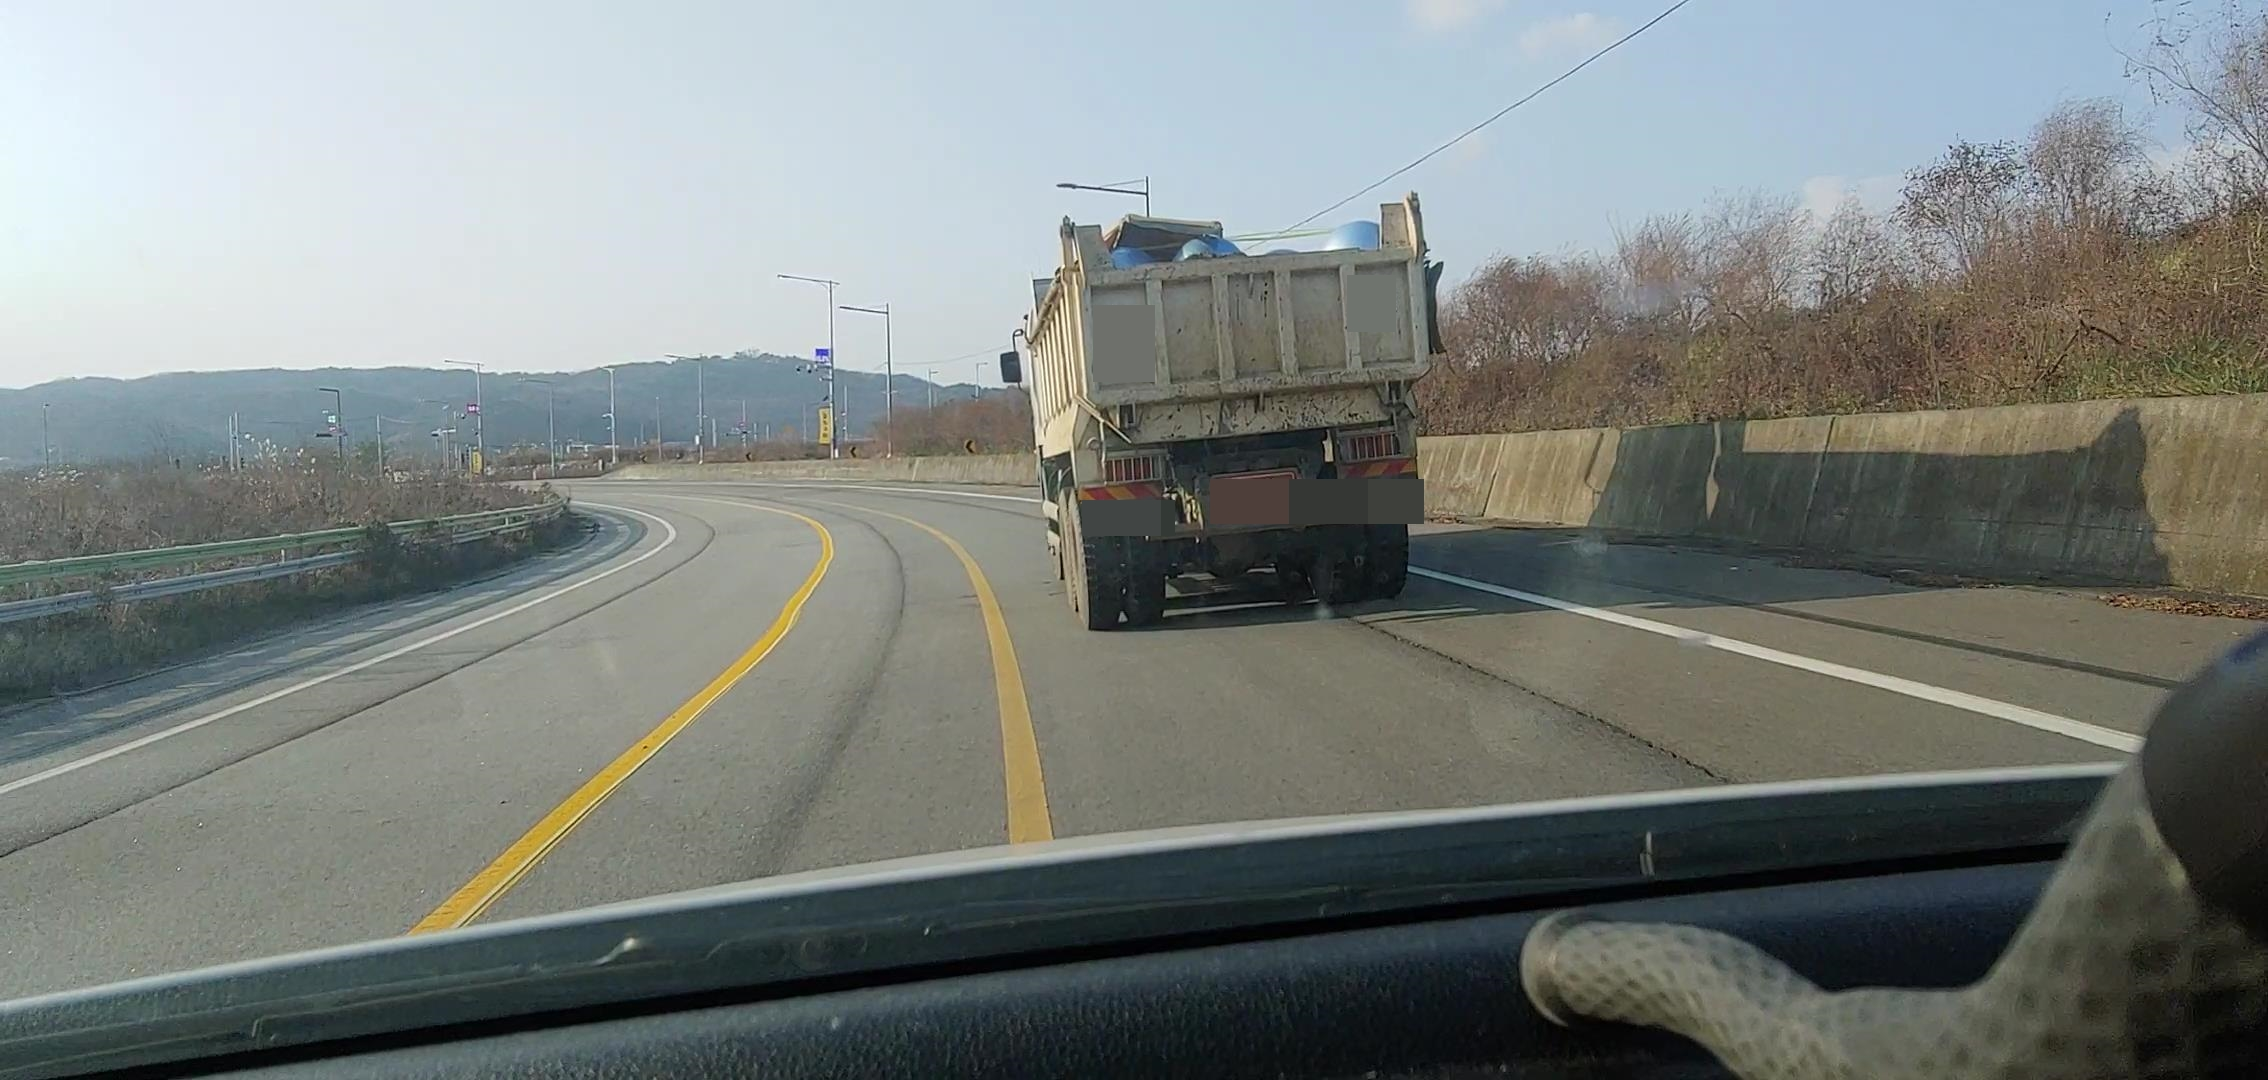불법차량: (998, 187, 1446, 632)
